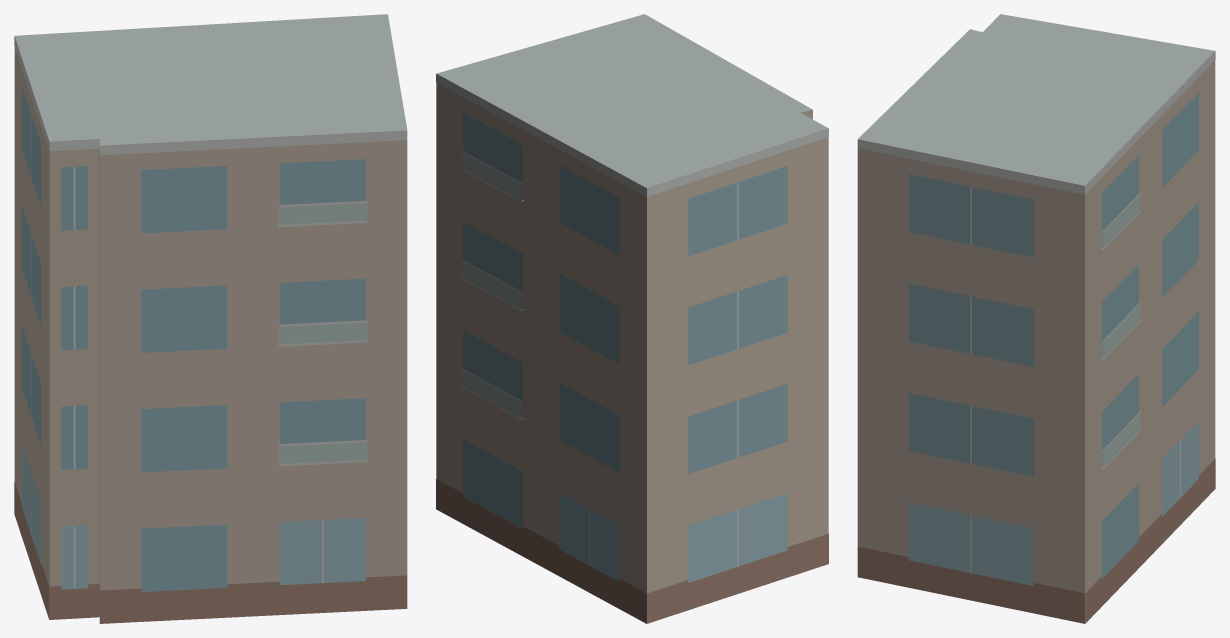
File: survey-upis-32749966.glb
3 renders of one model, left to right at view 1: azimuth 30°, elevation 25°; view 2: azimuth 150°, elevation 25°; view 3: azimuth 270°, elevation 25°, orthographic. The views are drawn at different scales.
Parts seen in each view (by area): view 1: survey-upis-32749966.tmp; view 2: survey-upis-32749966.tmp; view 3: survey-upis-32749966.tmp.
Boxes of the visible parts, box(x1,y1,x2,y2) form: survey-upis-32749966.tmp: box(14, 14, 407, 623); survey-upis-32749966.tmp: box(436, 14, 828, 623); survey-upis-32749966.tmp: box(857, 14, 1215, 623).
Bounding box in the file's own units: 10.19 × 12.1 × 8.97.
